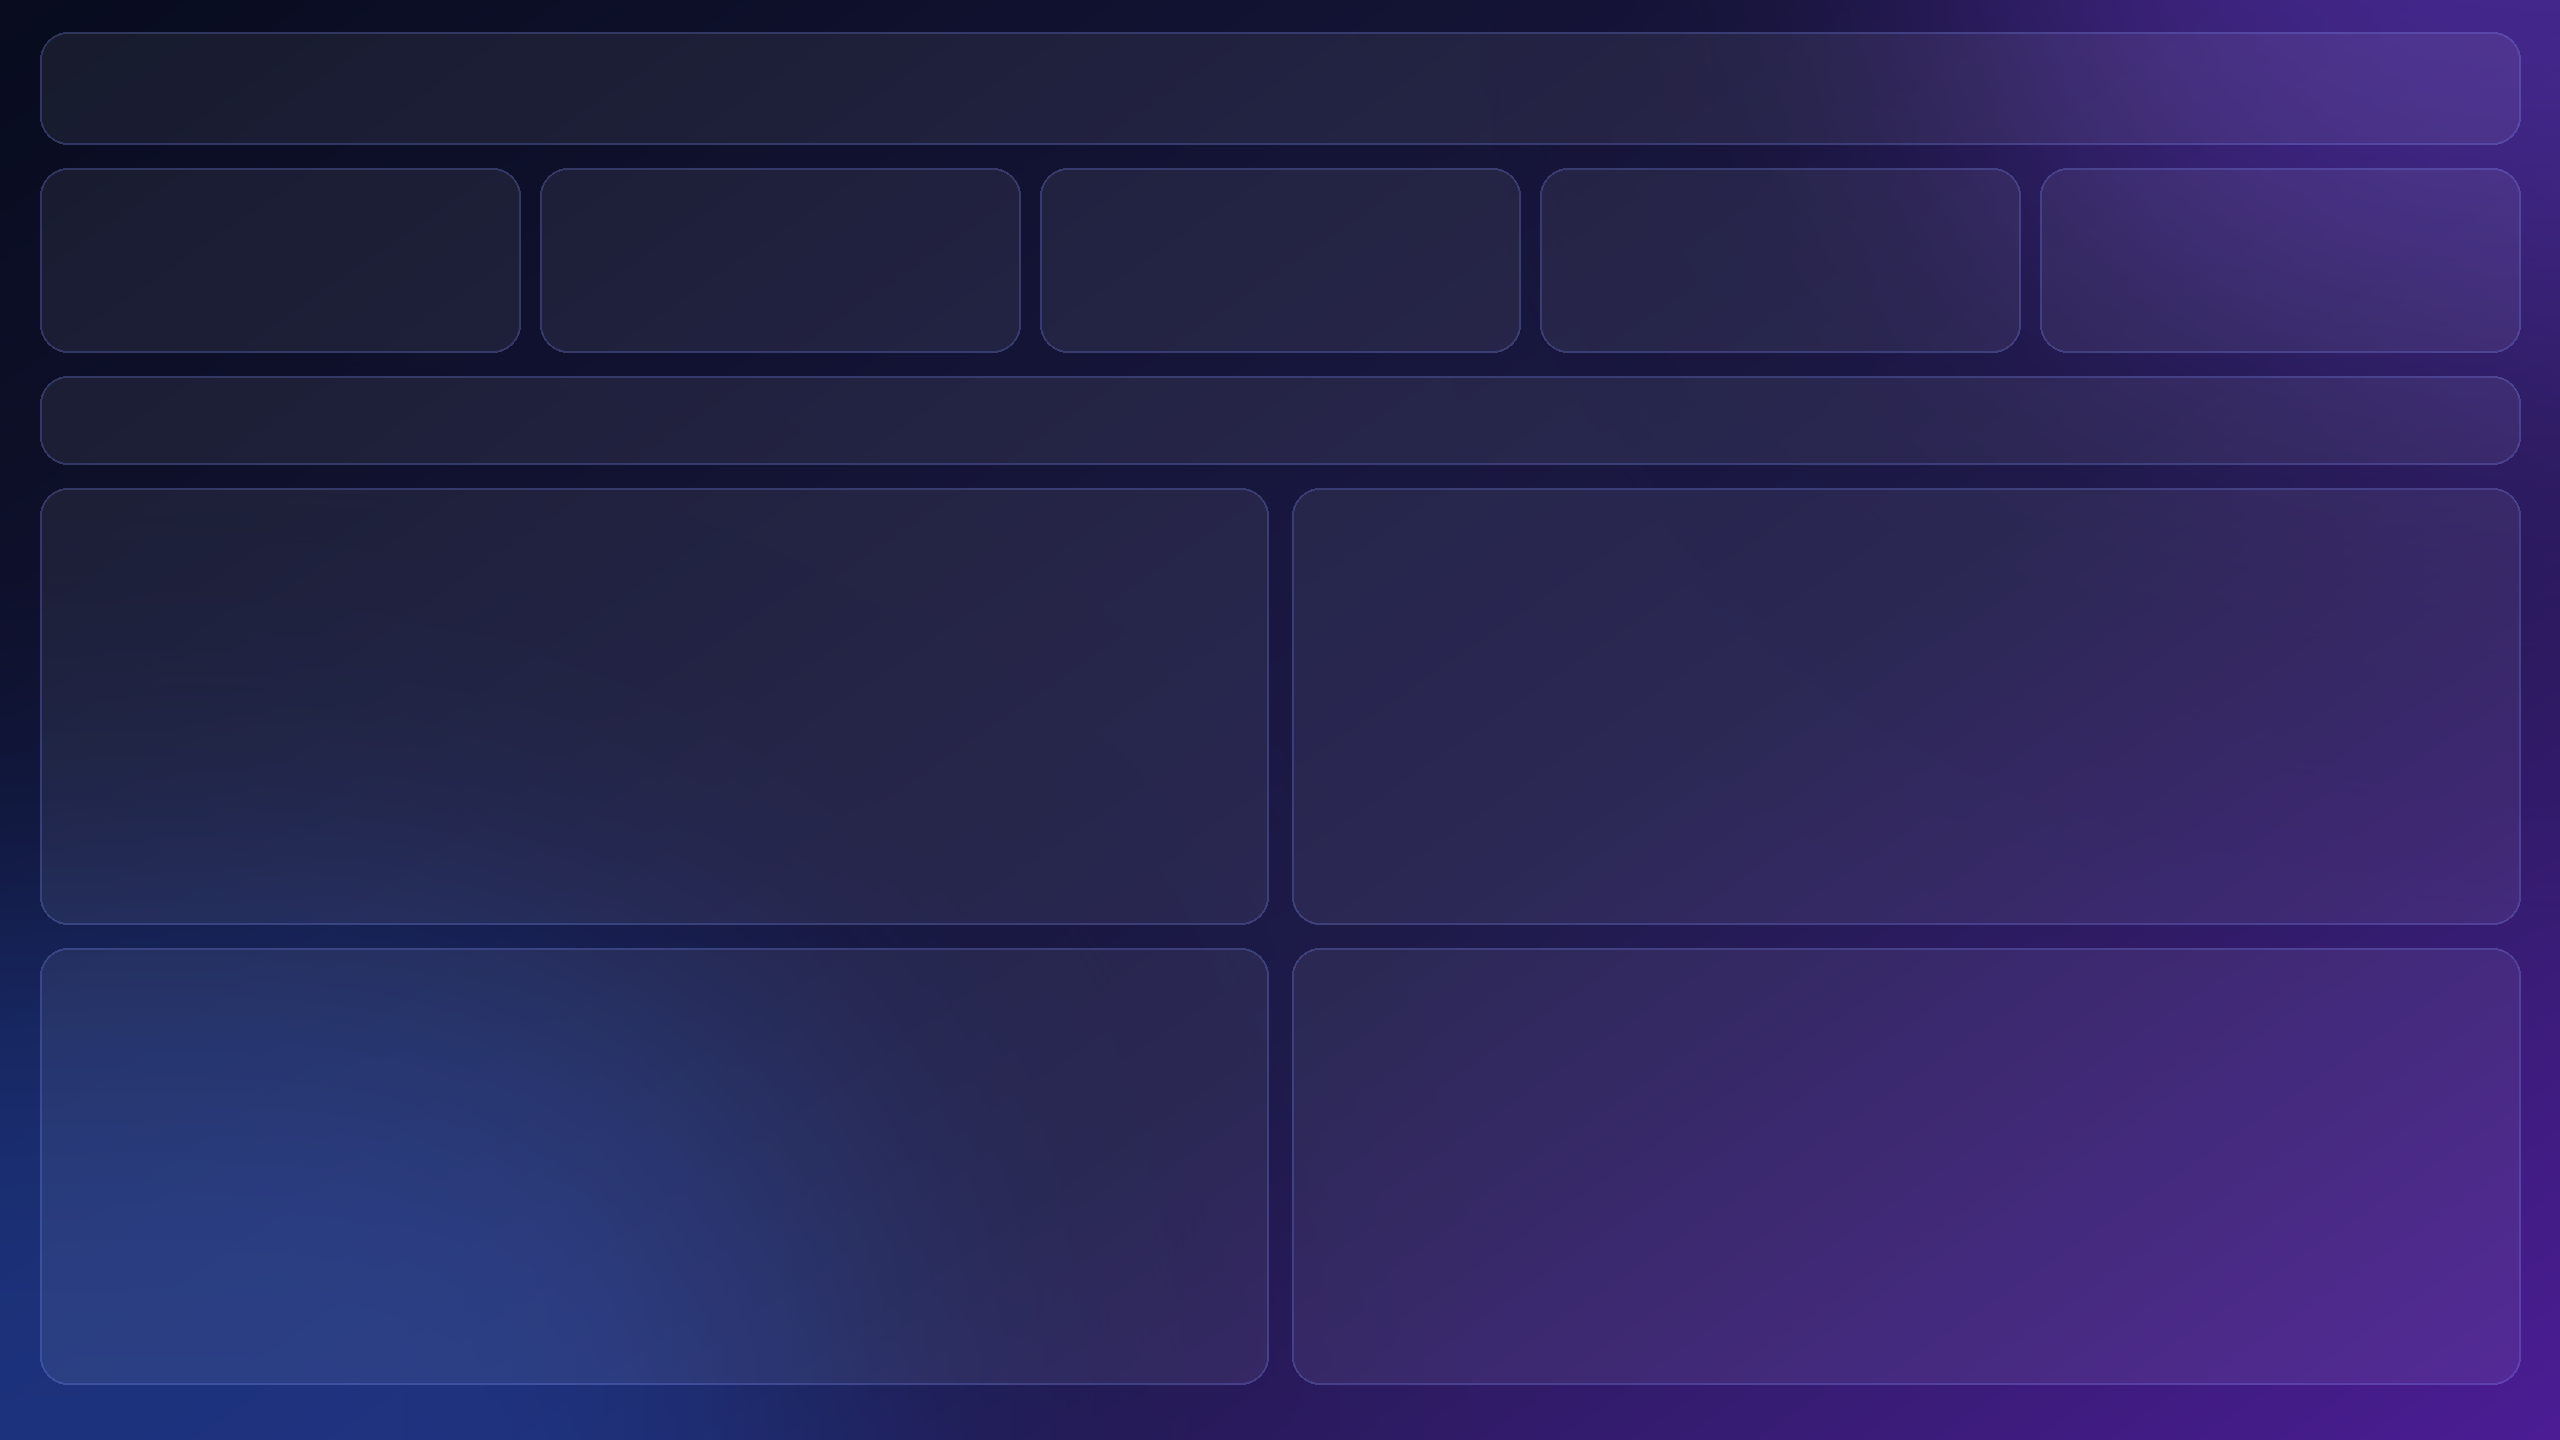

Layout of this report page (visuals, bound fields, positions):
{"tool":"powerbi","page":{"name":"Page 5","canvas":[1920,1080],"ordinal":0},"visuals":[{"type":"textbox","box":[23.2,19.6,1069.6,107.1],"z":0},{"type":"cardVisual","fields":{"Data":["trains_clean.Passenger Share %"]},"box":[848.1,139,245.5,159.7],"z":1000},{"type":"clusteredColumnChart","title":"Speed by Railway Zone (km/h)","fields":{"Category":["trains_clean.zone"],"Y":["trains_clean.Avg Speed kmph"]},"box":[577.1,693.8,516.7,366.7],"z":2000},{"type":"donutChart","title":"Service Mix by Category","fields":{"Category":["trains_clean.category"],"Y":["trains_clean.Train Services"]},"box":[576.3,311.9,516.9,367.8],"z":3000},{"type":"clusteredBarChart","title":"Top 10 Busiest Stations","fields":{"Category":["station_traffic.station_name"],"Y":["Sum(station_traffic.trains_halting)"]},"box":[1131.2,612.5,769.6,448.2],"z":4000},{"type":"clusteredColumnChart","title":"Departures by Hour of Day","fields":{"Category":["trains_clean.dep_hour"],"Y":["trains_clean.Train Services"]},"box":[1128.8,139,769.5,447.5],"z":5000},{"type":"cardVisual","fields":{"Data":["trains_clean.Train Services"]},"box":[27.3,139,245.5,159.7],"z":6000},{"type":"cardVisual","fields":{"Data":["trains_clean.Avg Speed kmph"]},"box":[300,139,245.5,159.7],"z":7000},{"type":"cardVisual","fields":{"Data":["trains_clean.AC Share %"]},"box":[576.6,139,245.5,159.7],"z":8000},{"type":"clusteredColumnChart","title":"Speed by Train Category (km/h)","fields":{"Category":["trains_clean.category"],"Y":["trains_clean.Avg Speed kmph"]},"box":[26.8,310.7,517.9,367.9],"z":9000},{"type":"clusteredColumnChart","title":"AC Coverage by Distance","fields":{"Category":["trains_clean.band"],"Y":["trains_clean.AC Share %"]},"box":[26.8,692.9,517.9,367.9],"z":10000},{"type":"slicer","fields":{"Values":["trains_clean.category"]},"box":[1128.6,19.6,496.4,107.1],"z":11000},{"type":"slicer","fields":{"Values":["trains_clean.zone"]},"box":[1646.4,19.6,251.8,107.1],"z":12000}]}

Visuals, with their boxes in screenshot pixels (x1, y1, x2, y2), scaled from the page's 1920x1080 canvas onto the 2560x1440 screenshot:
textbox: [31,26,1457,169]
cardVisual - trains_clean.Passenger Share %: [1131,185,1458,398]
"Speed by Railway Zone (km/h)" clusteredColumnChart: [769,925,1458,1414]
"Service Mix by Category" donutChart: [768,416,1458,906]
"Top 10 Busiest Stations" clusteredBarChart: [1508,817,2534,1414]
"Departures by Hour of Day" clusteredColumnChart: [1505,185,2531,782]
cardVisual - trains_clean.Train Services: [36,185,364,398]
cardVisual - trains_clean.Avg Speed kmph: [400,185,727,398]
cardVisual - trains_clean.AC Share %: [769,185,1096,398]
"Speed by Train Category (km/h)" clusteredColumnChart: [36,414,726,905]
"AC Coverage by Distance" clusteredColumnChart: [36,924,726,1414]
slicer - trains_clean.category: [1505,26,2167,169]
slicer - trains_clean.zone: [2195,26,2531,169]
